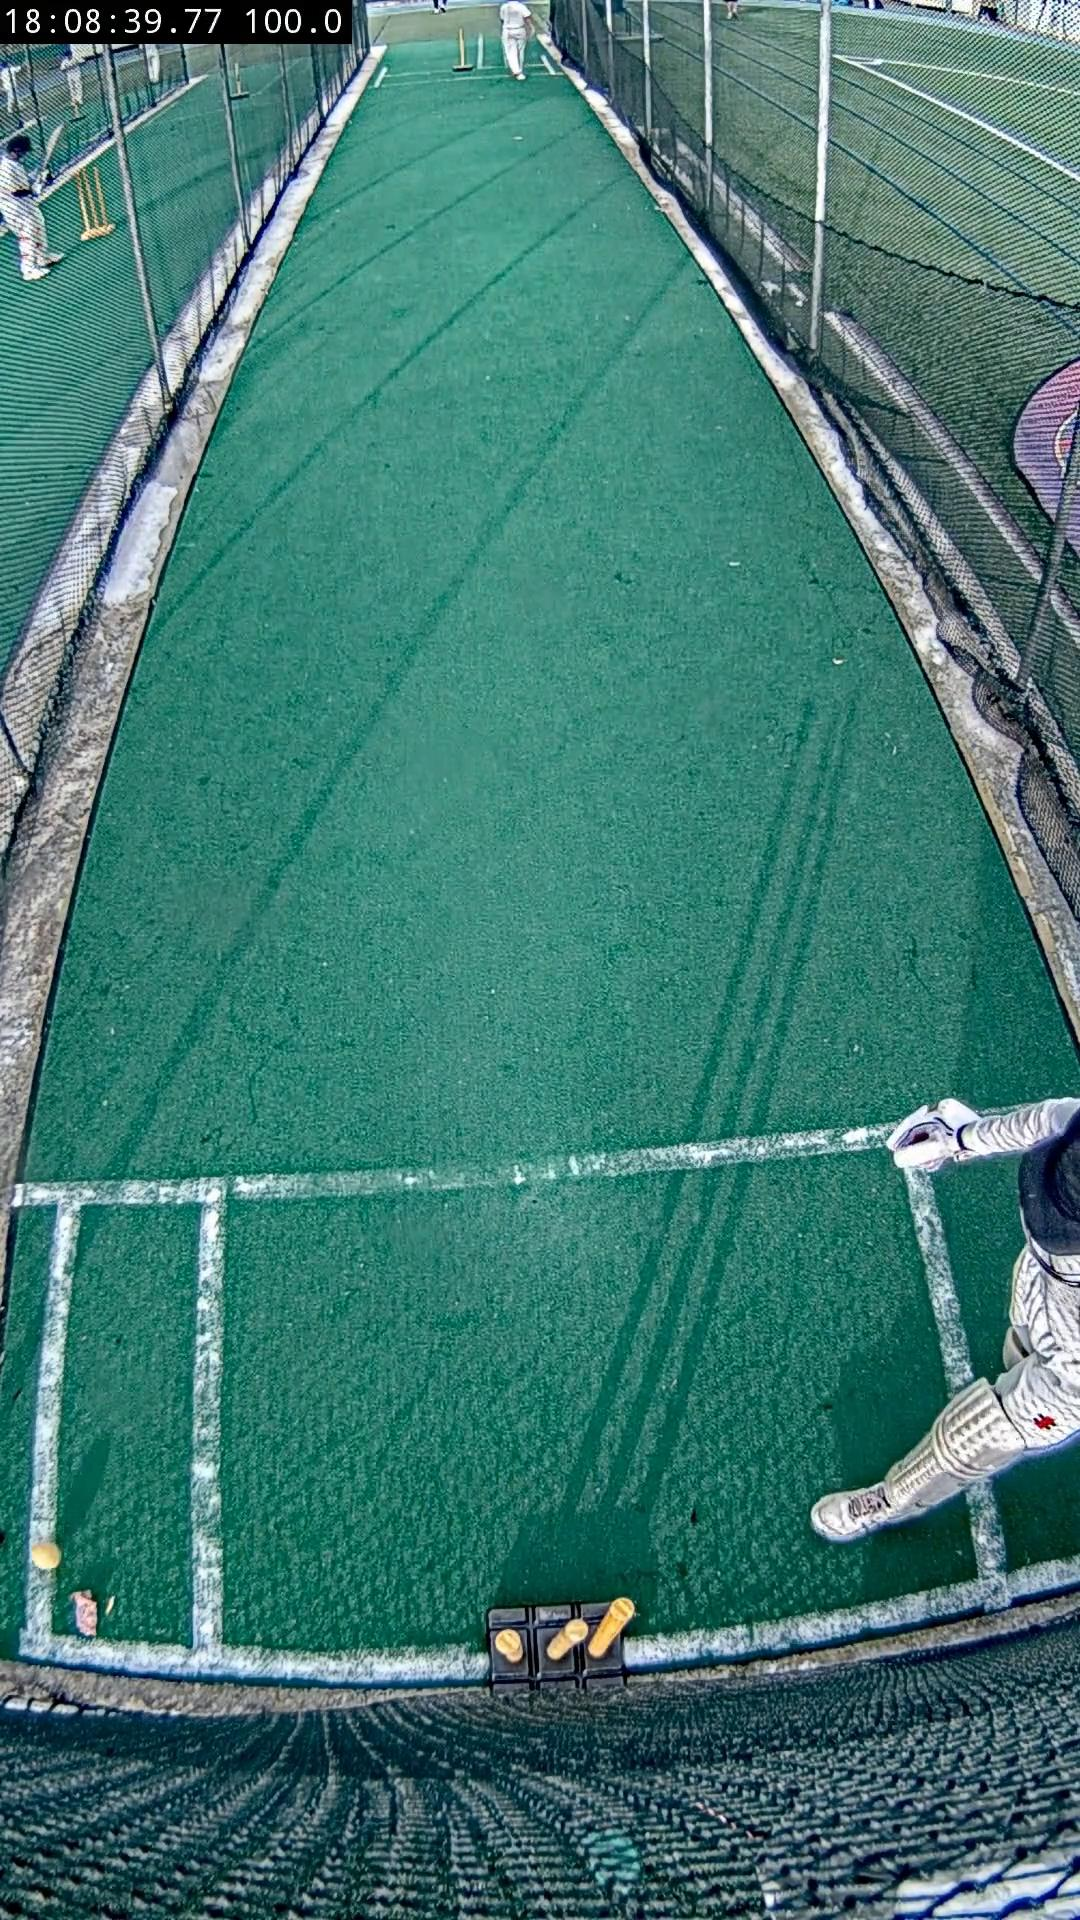ball: (30, 1542, 61, 1572)
gloves: (885, 1098, 982, 1174)
pads: (885, 1379, 1027, 1511)
stumps: (488, 1597, 634, 1692)
